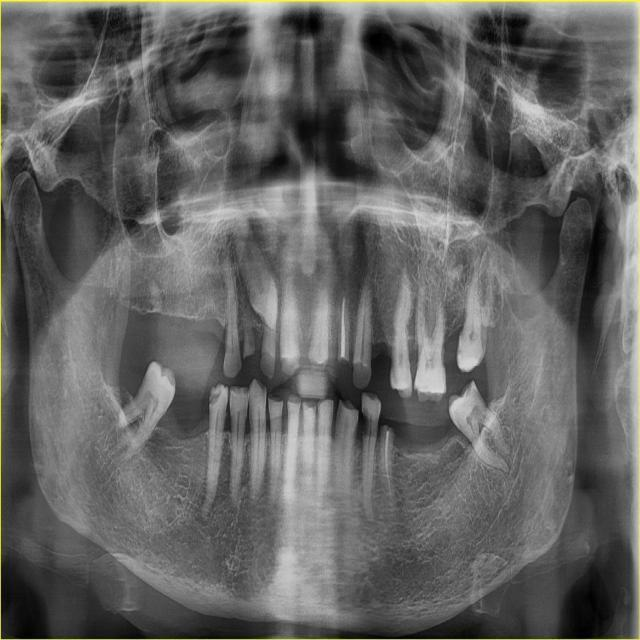72: (309, 291, 328, 369), (379, 424, 396, 507), (337, 289, 351, 365), (243, 304, 256, 361), (147, 277, 166, 314)
74: (340, 296, 346, 356)
Sterngold Implant: (352, 359, 371, 389), (280, 355, 302, 376), (224, 350, 241, 377), (259, 352, 275, 379), (362, 406, 372, 438), (462, 382, 478, 401), (210, 389, 222, 406), (440, 342, 445, 372), (414, 386, 422, 400), (457, 346, 463, 359)
